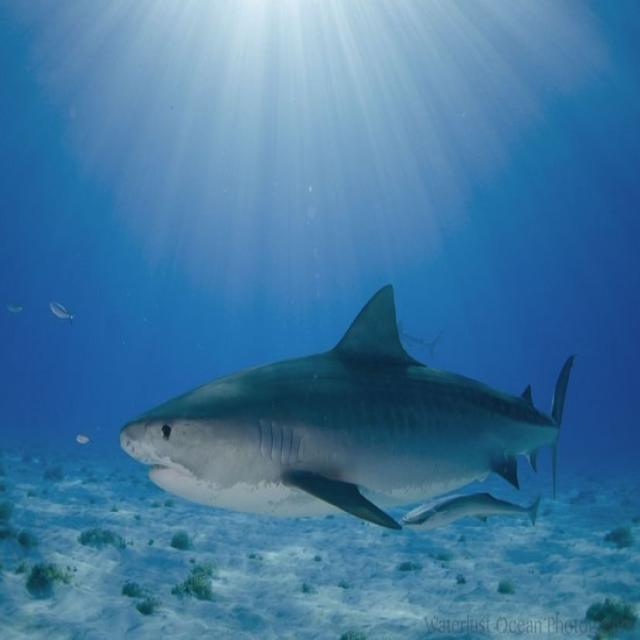shark: (120, 285, 571, 528), (403, 492, 540, 528)
